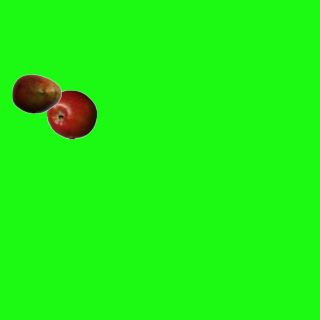Apple Braeburn: (46, 89, 96, 139)
Mango Red: (11, 68, 61, 118)
